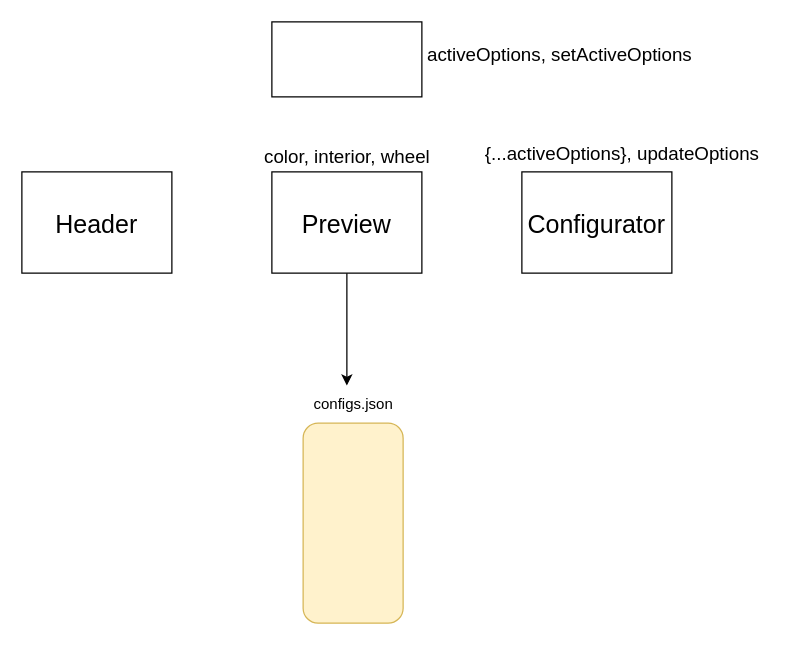
Some shapes in this 794 by 645 pixel diagram are drawn without their labels. Each missing label, with the box of its shape:
images: (302, 422, 403, 623)
Page: (271, 21, 422, 97)
